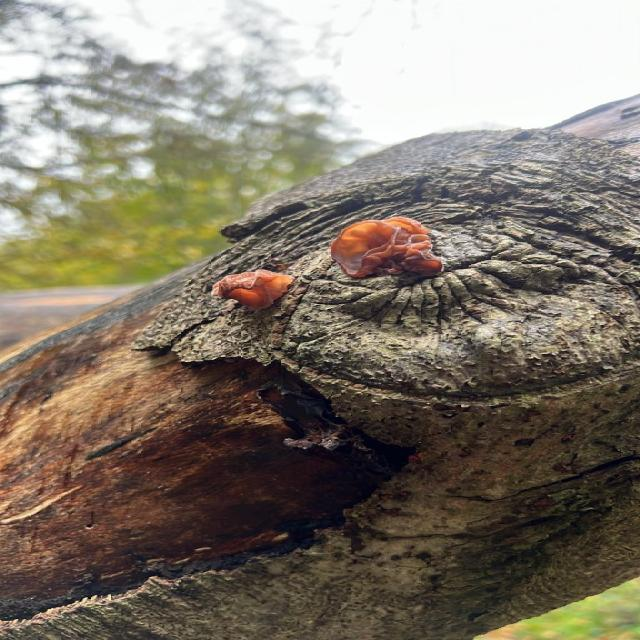Matang: (321, 215, 458, 280), (187, 264, 302, 304)
